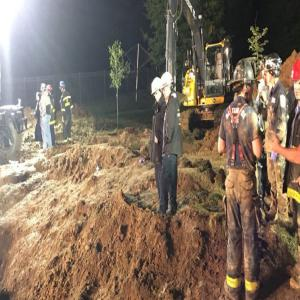blue: (233, 59, 256, 102), (265, 52, 283, 88), (60, 81, 67, 94)
red: (291, 60, 300, 104), (47, 84, 53, 98)
white: (161, 70, 175, 101), (152, 76, 162, 102), (41, 82, 47, 96)
